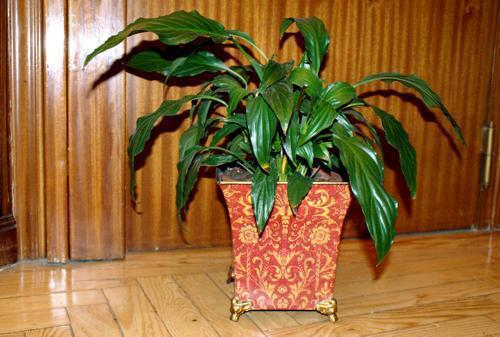Matera: (79, 6, 471, 326)
